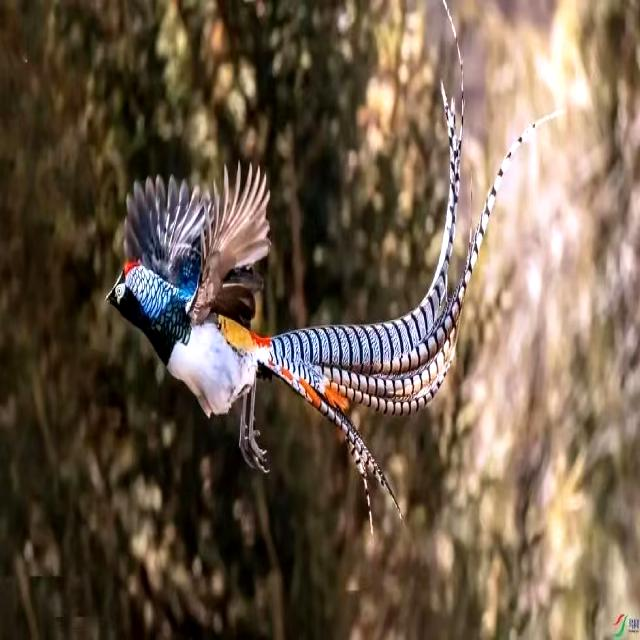Chrysolophus amherstiae: (268, 78, 561, 526)
